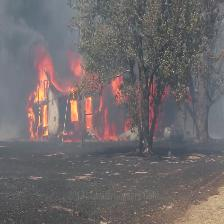fire: (28, 45, 198, 156)
smoke: (0, 0, 129, 57)
